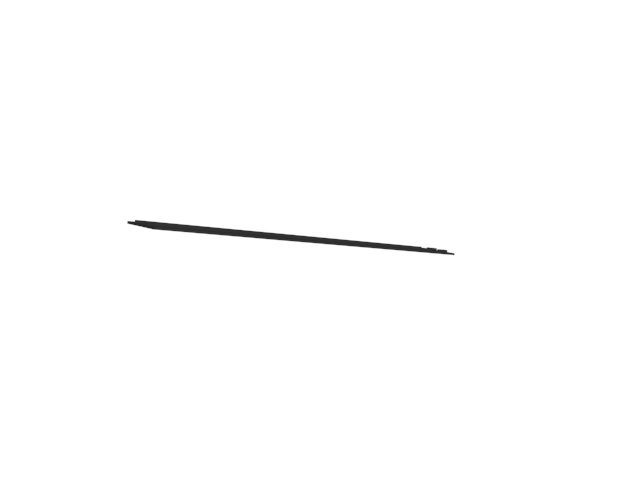ruler: (121, 217, 456, 256)
